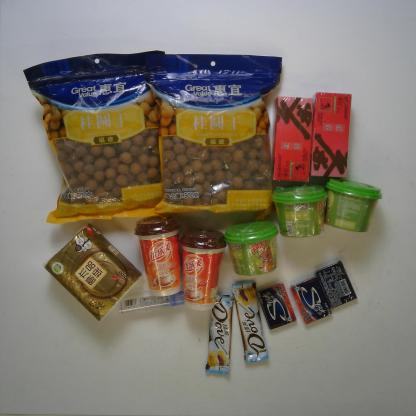Chocolate: (231, 280, 268, 364), (204, 292, 234, 377)
Dried Food: (21, 50, 166, 225), (152, 51, 283, 218)
Gum: (289, 274, 333, 326), (315, 258, 358, 308), (256, 282, 298, 331)
Instant Drink: (134, 216, 182, 298), (179, 229, 226, 311), (271, 95, 313, 184), (310, 91, 352, 178), (325, 178, 383, 235), (223, 222, 280, 276), (270, 183, 325, 238)
Stationery: (114, 290, 186, 314)
Tissue: (42, 224, 141, 324)
